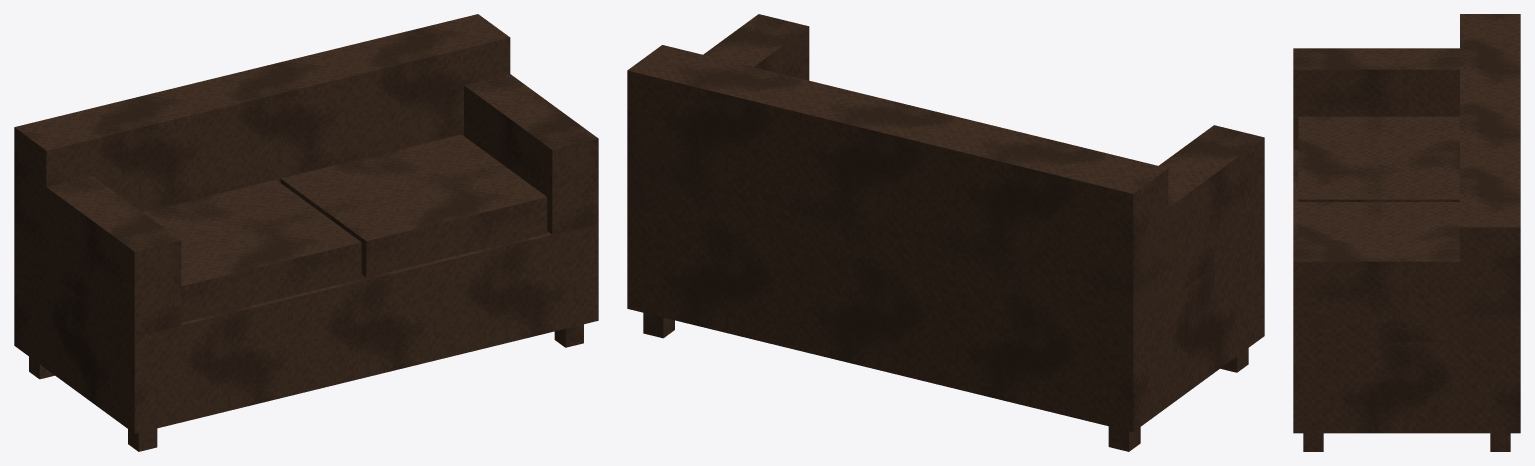
Rendered from Couch.fbx.
3 renders of one model, left to right at view 1: azimuth 30°, elevation 25°; view 2: azimuth 150°, elevation 25°; view 3: azimuth 270°, elevation 25°, orthographic. The views are drawn at different scales.
Parts seen in each view (by area): view 1: Couch_Base, Couch_Back, Couch_Cushion2, Couch_Cushion1, Couch_ArmL, Couch_ArmR, Couch_Feet; view 2: Couch_Back, Couch_Base, Couch_ArmL, Couch_ArmR, Couch_Feet; view 3: Couch_Base, Couch_Back, Couch_ArmR, Couch_Cushion1, Couch_ArmL, Couch_Cushion2, Couch_Feet.
Boxes of the visible parts, x1=… form: Couch_Base: x1=14, y1=223, x2=598, y2=433; Couch_Back: x1=14, y1=14, x2=510, y2=271; Couch_Cushion2: x1=280, y1=134, x2=547, y2=277; Couch_Cushion1: x1=143, y1=179, x2=361, y2=322; Couch_ArmL: x1=14, y1=166, x2=181, y2=336; Couch_ArmR: x1=464, y1=74, x2=598, y2=234; Couch_Feet: x1=29, y1=324, x2=583, y2=451; Couch_Back: x1=627, y1=45, x2=1168, y2=325; Couch_Base: x1=627, y1=203, x2=1264, y2=431; Couch_ArmL: x1=1083, y1=125, x2=1264, y2=325; Couch_ArmR: x1=627, y1=14, x2=809, y2=214; Couch_Feet: x1=643, y1=313, x2=1248, y2=451; Couch_Base: x1=1293, y1=149, x2=1520, y2=433; Couch_Back: x1=1460, y1=14, x2=1520, y2=341; Couch_ArmR: x1=1293, y1=240, x2=1520, y2=341; Couch_Cushion1: x1=1298, y1=116, x2=1459, y2=201; Couch_ArmL: x1=1293, y1=48, x2=1459, y2=149; Couch_Cushion2: x1=1298, y1=202, x2=1459, y2=240; Couch_Feet: x1=1303, y1=433, x2=1510, y2=451.
Bounding box in the file's own units: 2 × 1 × 0.9.
1 material, 1 textured.
